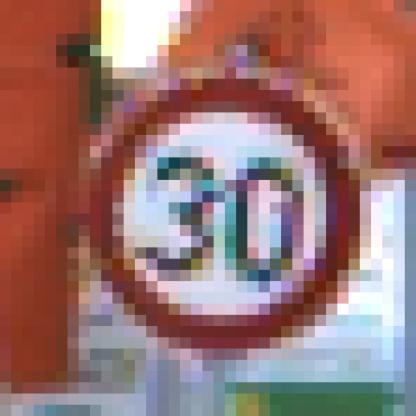Speed Limit 30: (90, 79, 361, 348)
